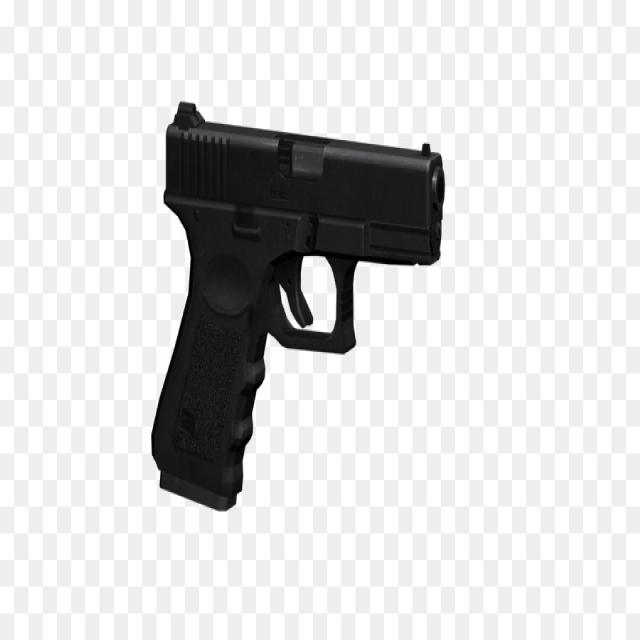HandGun: (151, 101, 447, 513)
